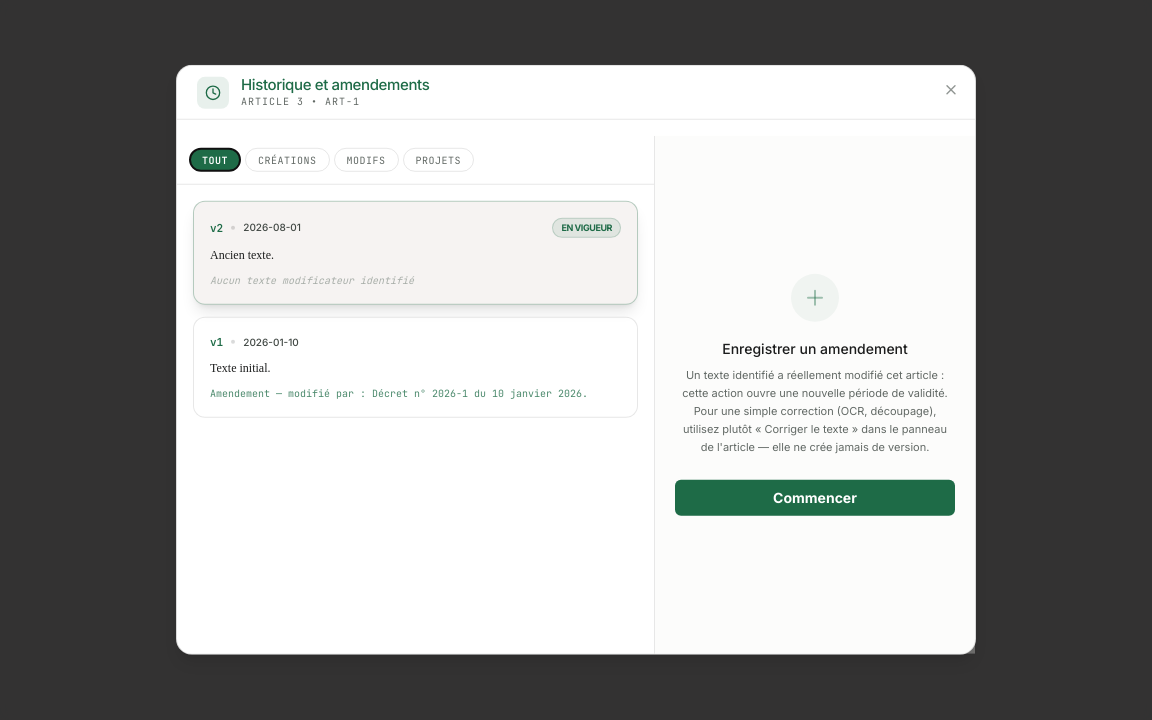
Test: bloque l'enregistrement d'un amendement tant qu'aucun texte modificateur n'est sélectionné
Click the button "Commencer".
click(815, 498)  # box [675, 480, 955, 516]
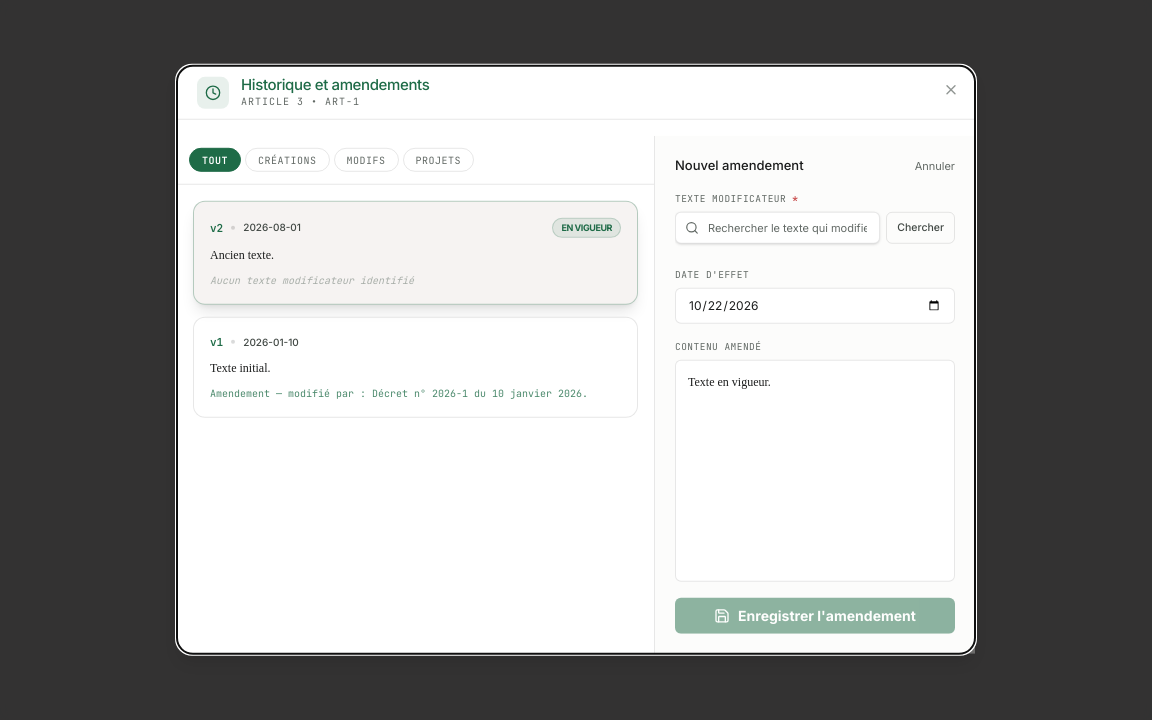
expect the button "Enregistrer l'amendement" is disabled: met, box [675, 598, 955, 634]
